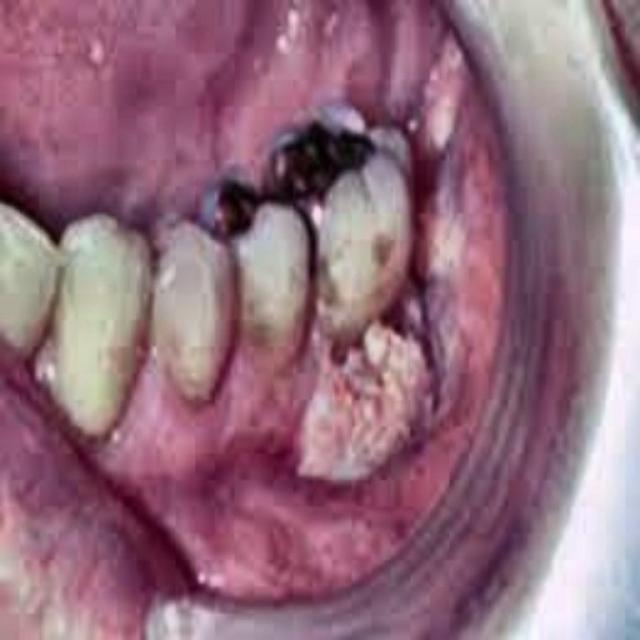cancer-detection: (279, 289, 469, 495)
processing_area: (23, 23, 507, 605)
